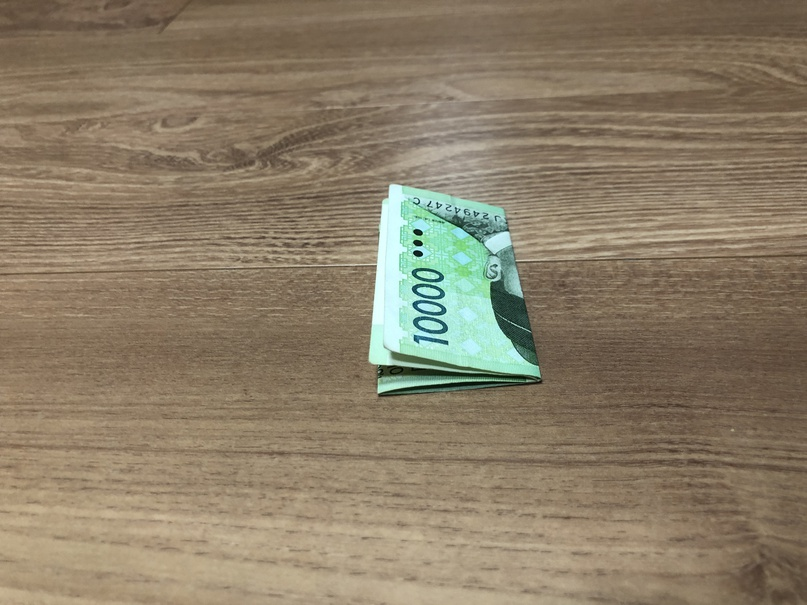10000won: (368, 185, 542, 397)
